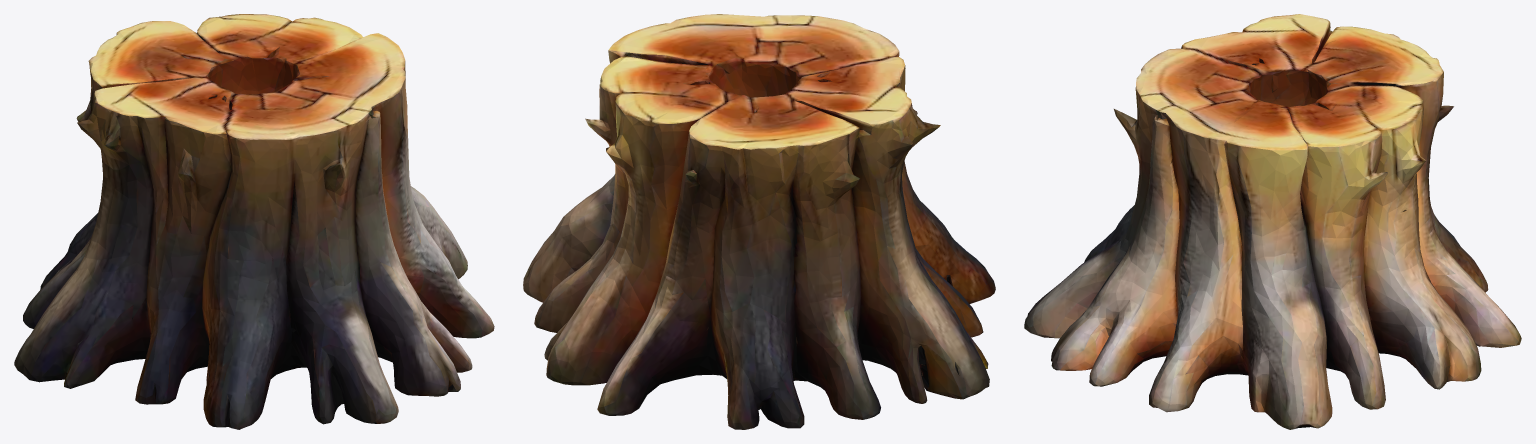
Rendered from prop_tree_stump_02.glb.
3 renders of one model, left to right at view 1: azimuth 30°, elevation 25°; view 2: azimuth 150°, elevation 25°; view 3: azimuth 270°, elevation 25°, orthographic. The views are drawn at different scales.
Visible parts, largest first — view 1: geometry_0; view 2: geometry_0; view 3: geometry_0.
Part boxes in pixels (x1=…): geometry_0: x1=14, y1=14, x2=494, y2=429; geometry_0: x1=523, y1=14, x2=995, y2=429; geometry_0: x1=1024, y1=14, x2=1521, y2=429.
Bounding box in the file's own units: 1 × 0.5443 × 0.9967.
Materials: 1 (1 with a texture image).
